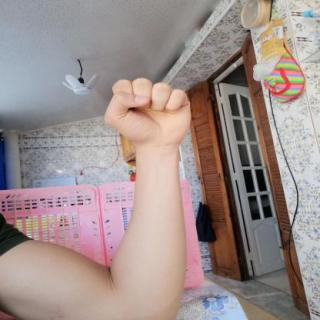SAD: (94, 68, 210, 152)
